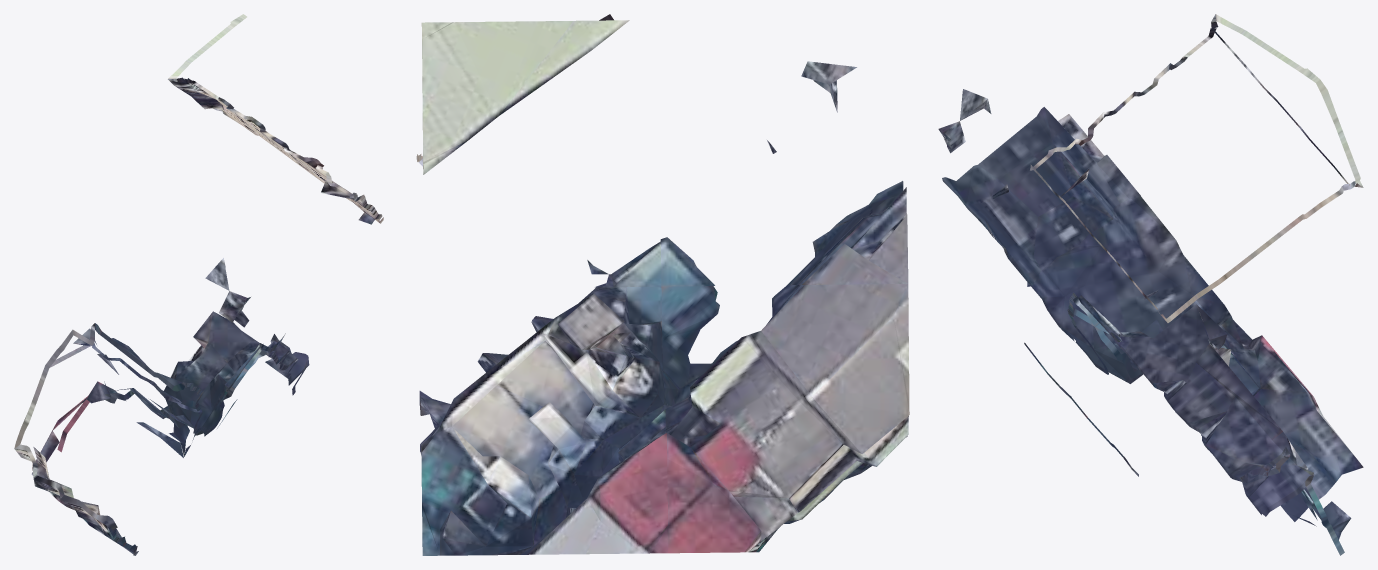
The picture shows the model from 3 angles, left to right: view 1: azimuth 30°, elevation 25°; view 2: azimuth 150°, elevation 25°; view 3: azimuth 270°, elevation 25°; orthographic projection. The views are drawn at different scales.
Size of the model in its own units: 39.38 by 43.03 by 32.95.
Materials: 1 (1 with a texture image).
